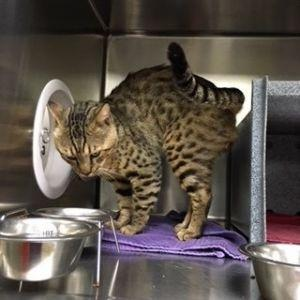bengal: (47, 99, 124, 185)
